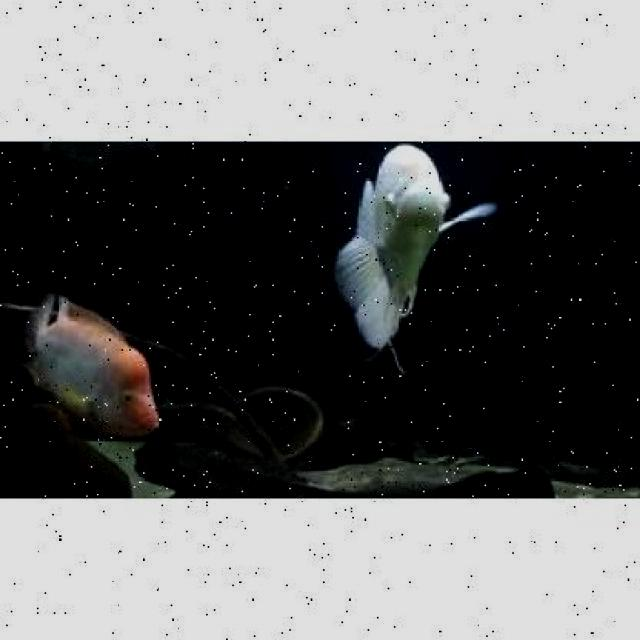gurame: (328, 140, 500, 358), (16, 292, 159, 437)
